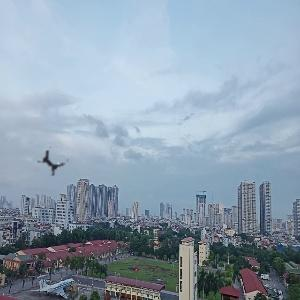drone: (21, 133, 81, 193)
